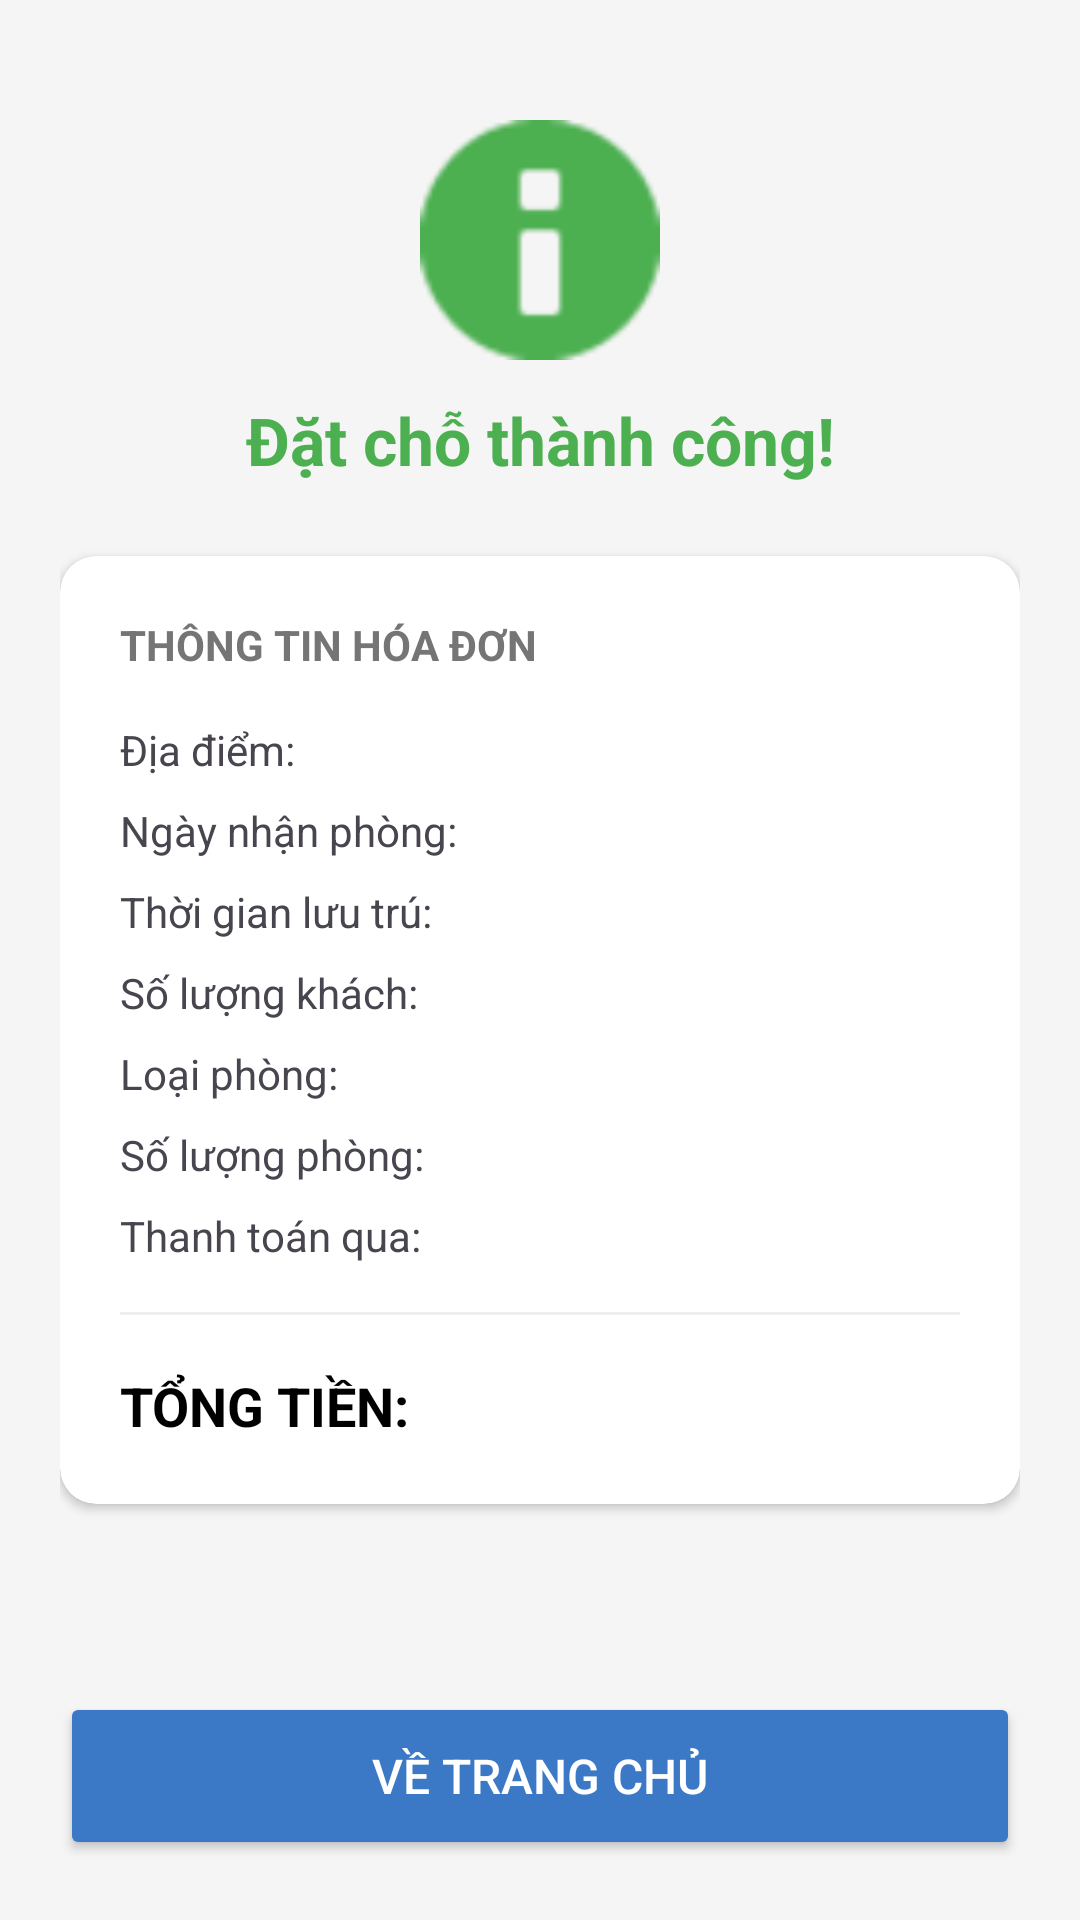

Locate icon controls on the screen. Image size 1080px x 1920px, boxes as [left=x1, top=y1, right=x2, bottom=y2].
info: [left=420, top=120, right=660, bottom=360]
